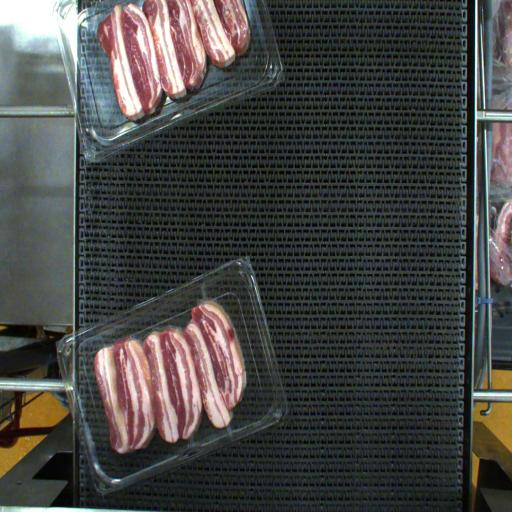unsealed: (87, 296, 255, 350)
